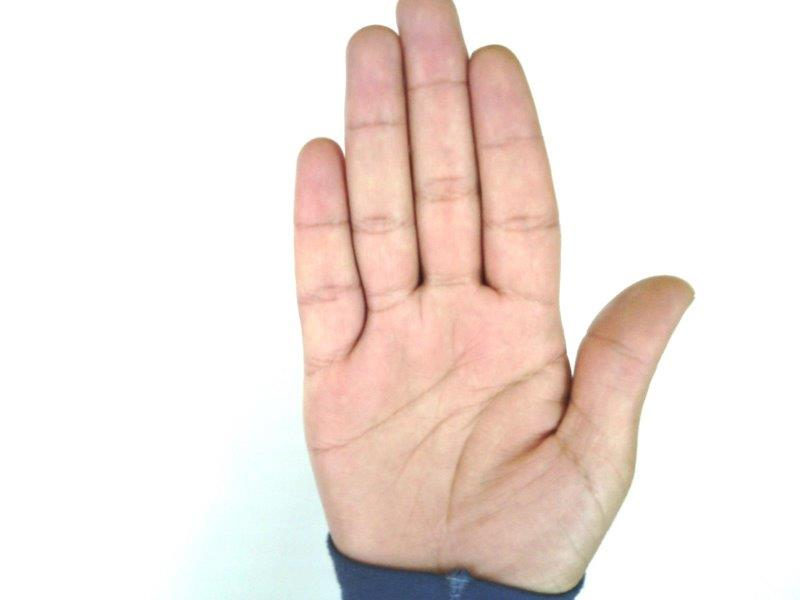hand: (296, 1, 695, 580)
